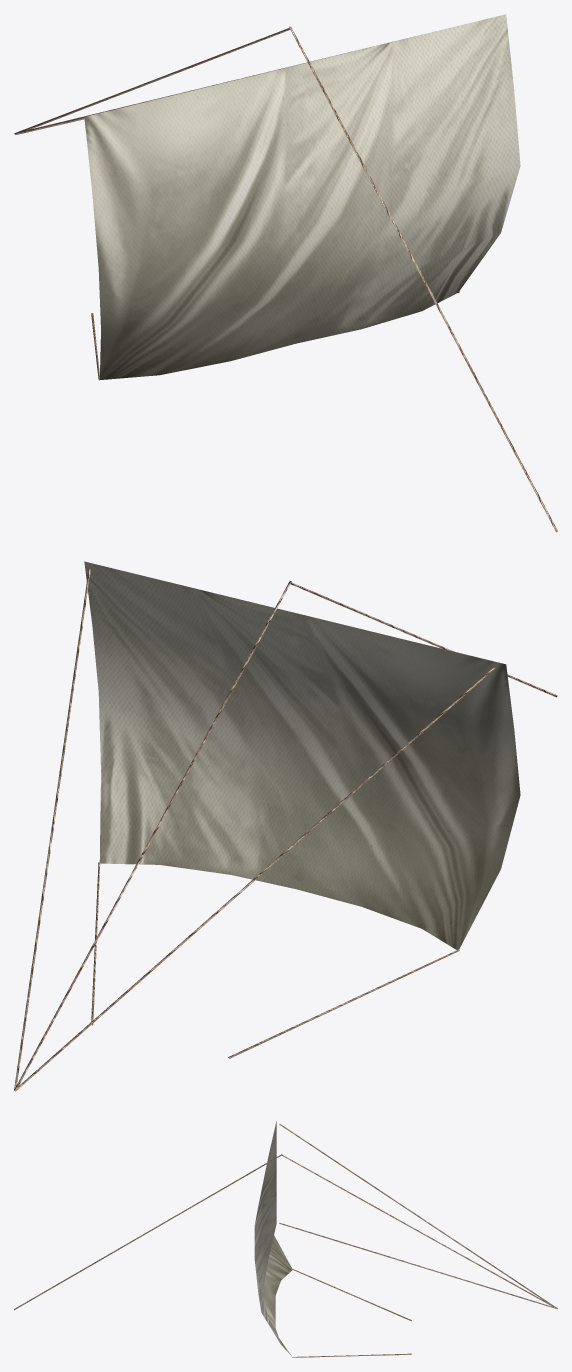
Rendered from viking_lb_sail.dae.
The picture shows the model from 3 angles, top to bottom: view 1: azimuth 30°, elevation 25°; view 2: azimuth 150°, elevation 25°; view 3: azimuth 270°, elevation 25°; orthographic projection. The views are drawn at different scales.
Visible parts, largest first — view 1: Plane; view 2: Plane; view 3: Plane.
Boxes of the visible parts, box(x1,y1,x2,y2) form: Plane: box(14, 14, 557, 532); Plane: box(14, 561, 557, 1091); Plane: box(14, 1121, 557, 1357).
Size of the model in its own units: 24.31 by 54.06 by 20.17.
